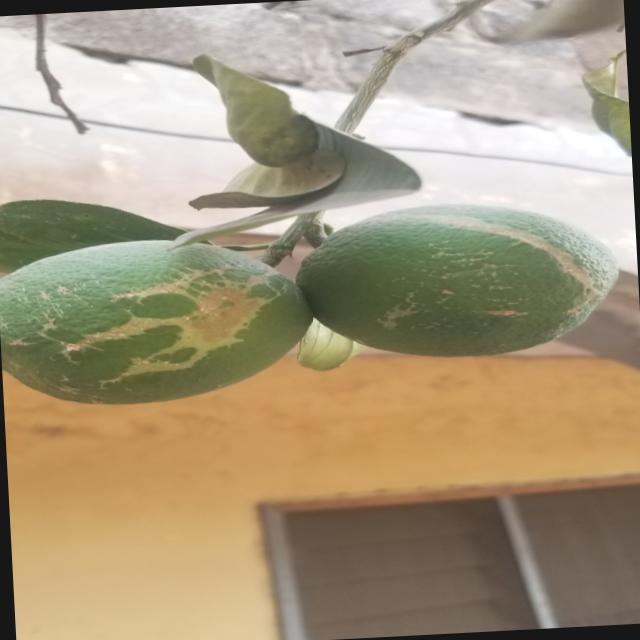agrume: (0, 233, 324, 412), (291, 196, 625, 364)
